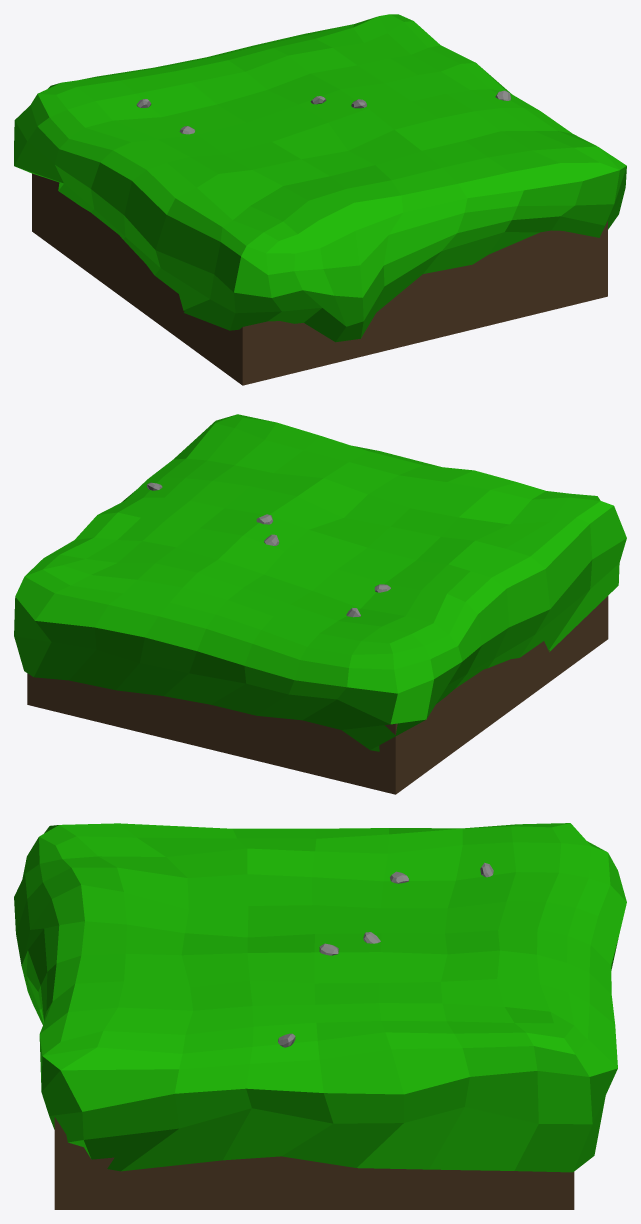
File: grassBigPlain.fbx
3 renders of one model, top to bottom at view 1: azimuth 30°, elevation 25°; view 2: azimuth 150°, elevation 25°; view 3: azimuth 270°, elevation 25°, orthographic. The views are drawn at different scales.
Visible parts, largest first — view 1: 3x3 grass.001; view 2: 3x3 grass.001; view 3: 3x3 grass.001.
Boxes of the visible parts, x1,y1,x2,y2 form: 3x3 grass.001: (14, 14, 626, 385); 3x3 grass.001: (14, 414, 626, 794); 3x3 grass.001: (14, 823, 626, 1209).
Size of the model in its own units: 344 by 116 by 354.
